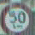Speed limit: (0, 1, 33, 34)
